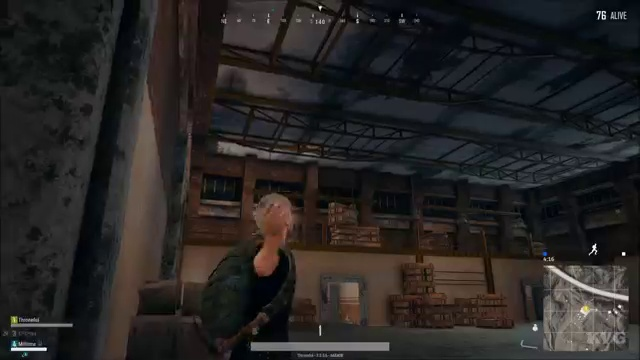Player: (187, 181, 330, 318)
